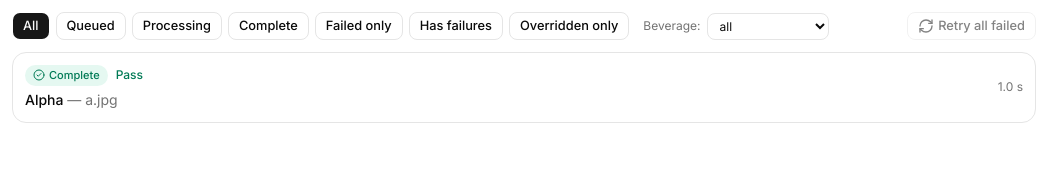
Scenario: BatchQueue › renders empty state when nothing matches the active filter
Step 1. Click the button "Failed only" → [359, 26], box [315,12,403,40]
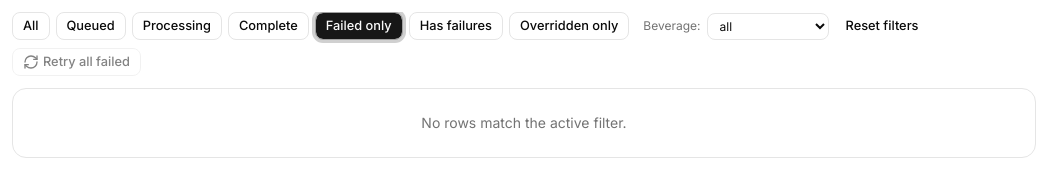
Result: the text "No rows match the active filter." is shown at [421,114,627,131]
